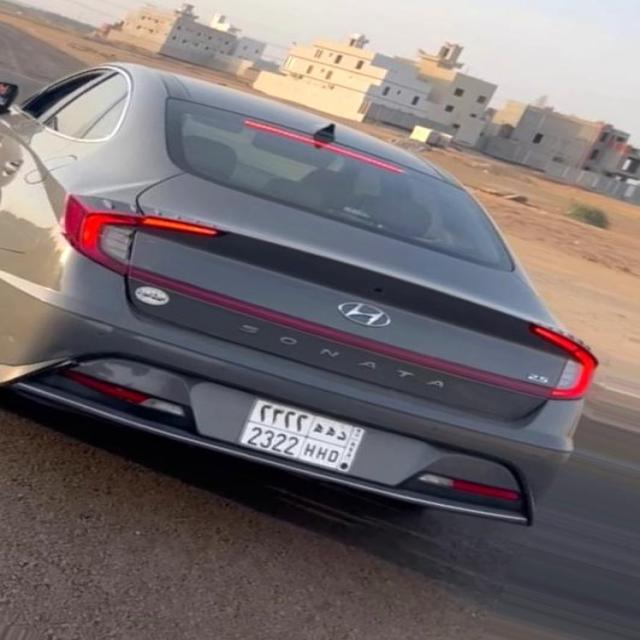Car-plate: (233, 388, 373, 476)
